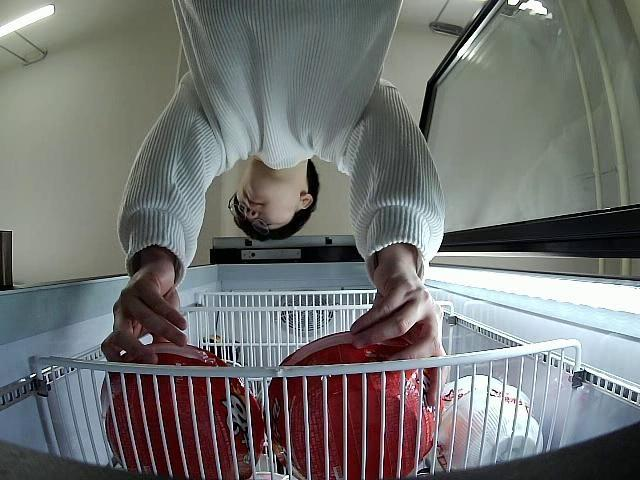10_wangTtukkeong: (270, 329, 442, 480), (99, 346, 262, 480)
